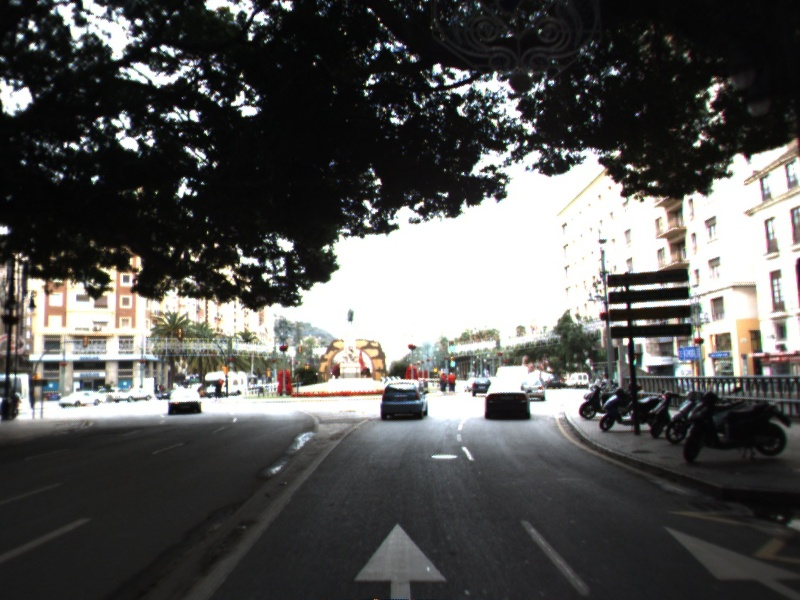STRAIGHT: (659, 519, 799, 600), (351, 518, 452, 600)
